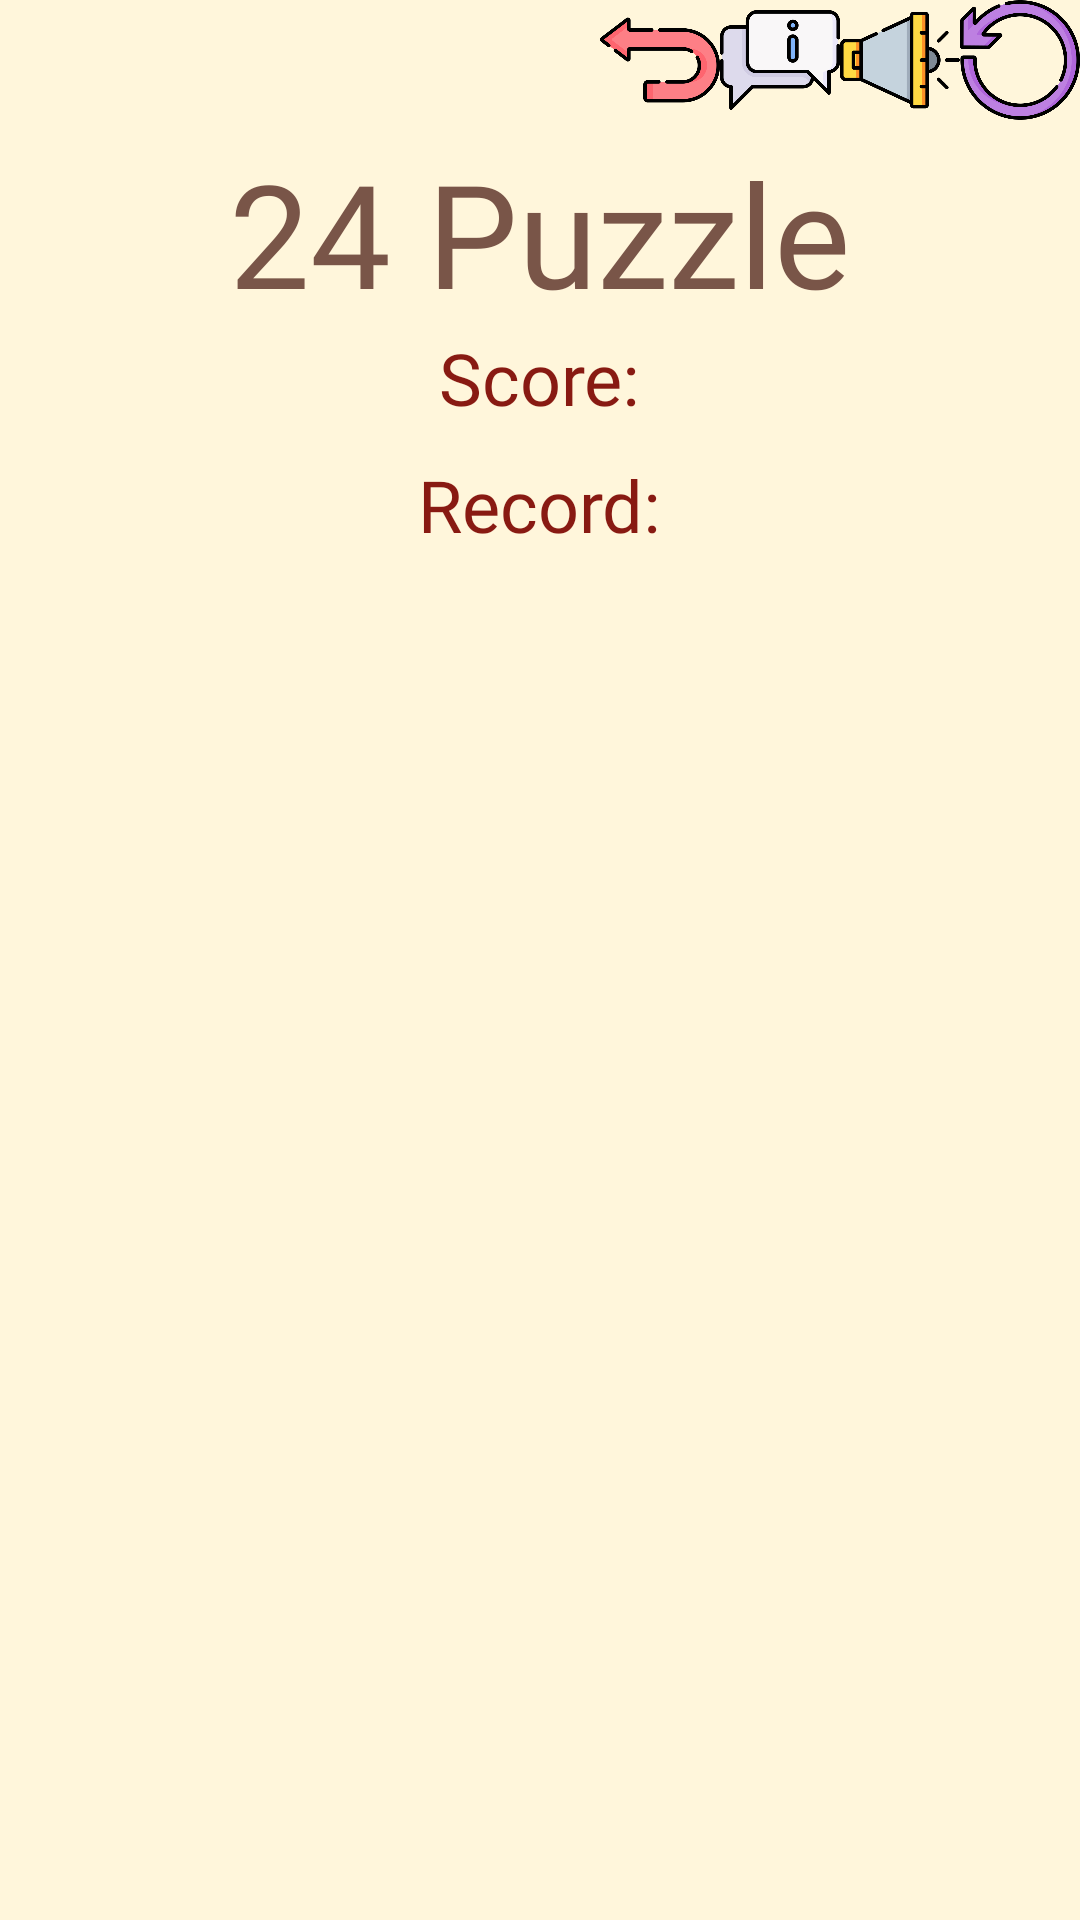

Locate icon controls on the screen. Image size 1080px×1920px, boxes as (x1=x1, y1=y1, x2=x2, y2=y2).
back: (x1=600, y1=17, x2=720, y2=103)
info: (x1=720, y1=10, x2=840, y2=110)
reload: (x1=960, y1=0, x2=1080, y2=120)
sound on: (x1=840, y1=12, x2=960, y2=109)
